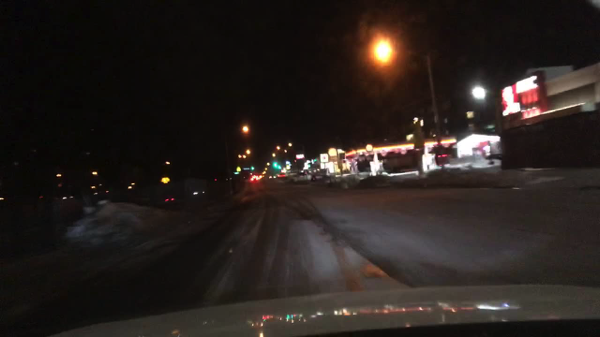car: (293, 170, 313, 184), (485, 153, 501, 165), (164, 197, 175, 205), (276, 174, 286, 180), (250, 177, 259, 183)
traffic light: (276, 165, 282, 170), (273, 162, 276, 169)
traffic sign: (235, 166, 241, 172), (242, 168, 251, 171)
